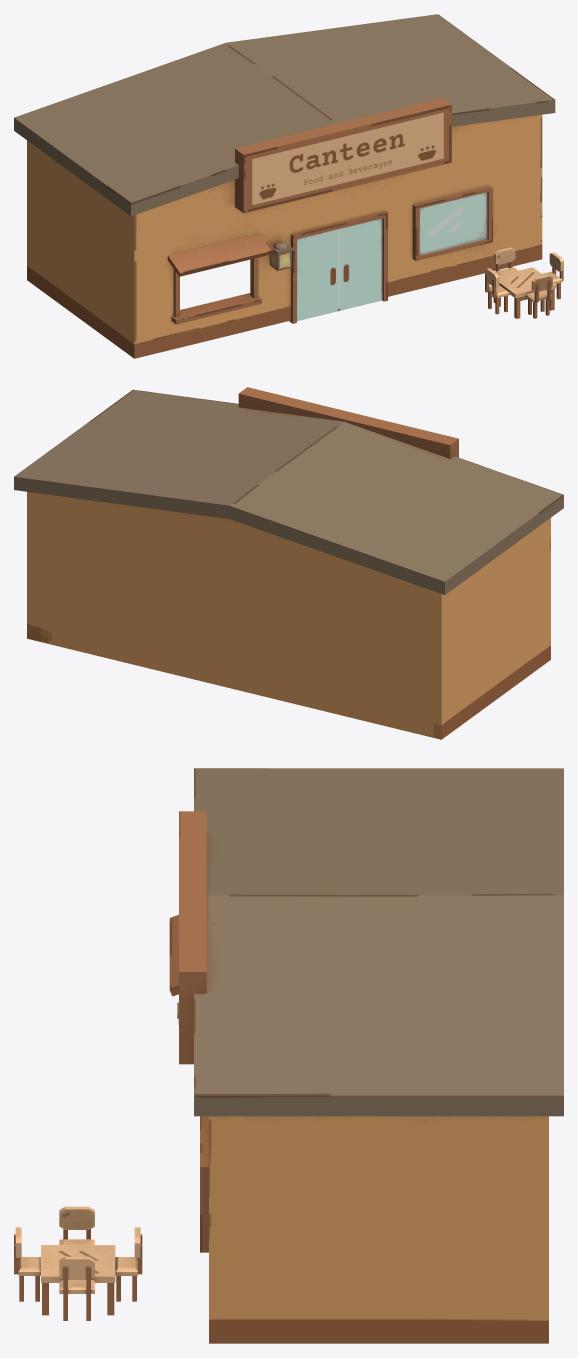
The model's file is BLD_Outside_Kantin.fbx.
The picture shows the model from 3 angles, top to bottom: view 1: azimuth 30°, elevation 25°; view 2: azimuth 150°, elevation 25°; view 3: azimuth 270°, elevation 25°; orthographic projection. The views are drawn at different scales.
Visible parts, largest first — view 1: Cube.057, Cube.120, Cube.058, Plane.002, Cube.060, Cube.118, Cube.117, Cube.062, Cube.061; view 2: Cube.057, Cube.120; view 3: Cube.057, Cube.120, Cube.117, Cube.118, Cube.062, Plane.002, Cube.060.
Boxes of the visible parts, x1,y1,x2,y2 form: Cube.057: (14,14,555,358); Cube.120: (235,98,451,213); Cube.058: (289,211,387,323); Plane.002: (412,186,492,260); Cube.060: (168,233,273,324); Cube.118: (494,247,552,318); Cube.117: (485,252,563,314); Cube.062: (499,267,556,298); Cube.061: (269,241,293,270); Cube.057: (14,389,563,739); Cube.120: (238,387,458,458); Cube.057: (194,768,563,1343); Cube.120: (179,811,206,1064); Cube.117: (59,1206,94,1320); Cube.118: (14,1227,142,1301); Cube.062: (41,1245,115,1282); Plane.002: (200,1116,208,1252); Cube.060: (169,915,178,996).
Bounding box in the file's own units: 1521 × 645 × 1080.
1 material, 1 textured.
